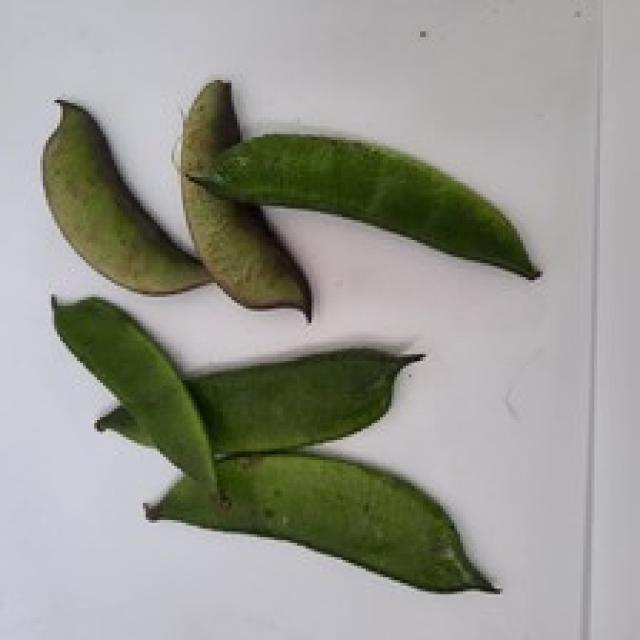Bean: (183, 129, 540, 280), (143, 449, 500, 594), (48, 291, 223, 503), (40, 94, 211, 294), (172, 77, 312, 320), (143, 341, 434, 450)
